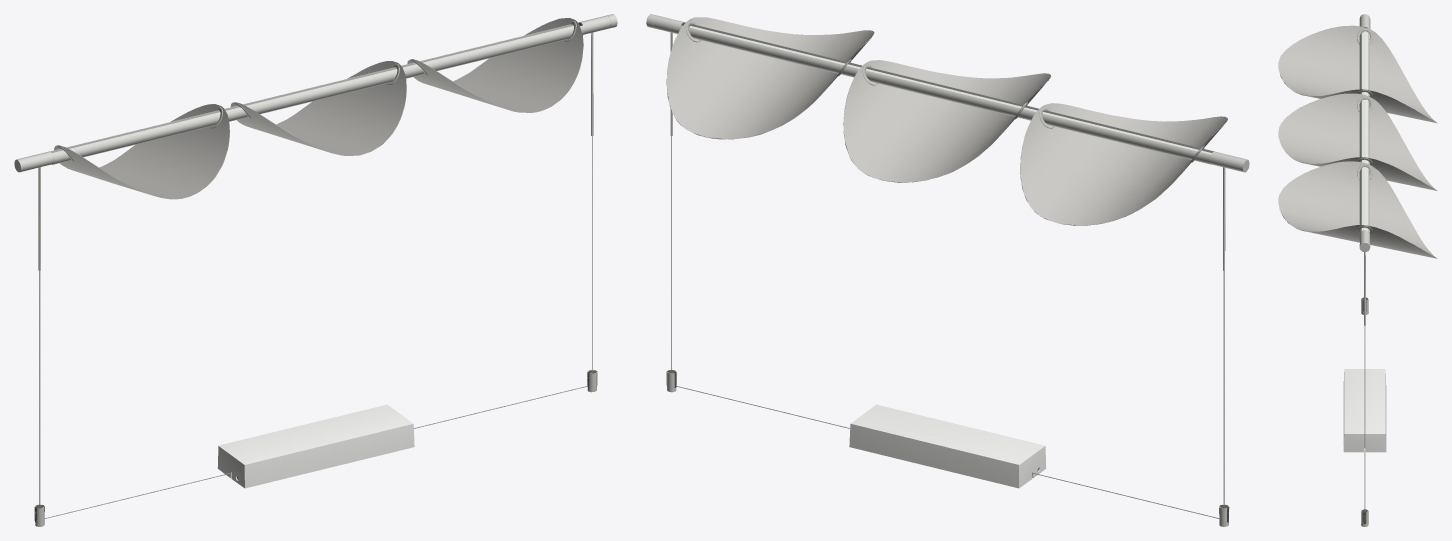
The model's file is backstorn_lampa_wiszaca_led_60577876.glb.
3 views of the same model, side by side, from view 1: azimuth 30°, elevation 25°; view 2: azimuth 150°, elevation 25°; view 3: azimuth 270°, elevation 25° (orthographic). The views are drawn at different scales.
Parts seen in each view (by area): view 1: backstorn_lampa_wiszaca_led_60577876; view 2: backstorn_lampa_wiszaca_led_60577876; view 3: backstorn_lampa_wiszaca_led_60577876.
Part boxes in pixels (x1,y1,x2,y2): backstorn_lampa_wiszaca_led_60577876: [14, 14, 617, 526]; backstorn_lampa_wiszaca_led_60577876: [646, 14, 1249, 526]; backstorn_lampa_wiszaca_led_60577876: [1278, 14, 1437, 526].
Bounding box in the file's own units: 1.08 × 0.6522 × 0.3186.
2 materials, 2 textured.
